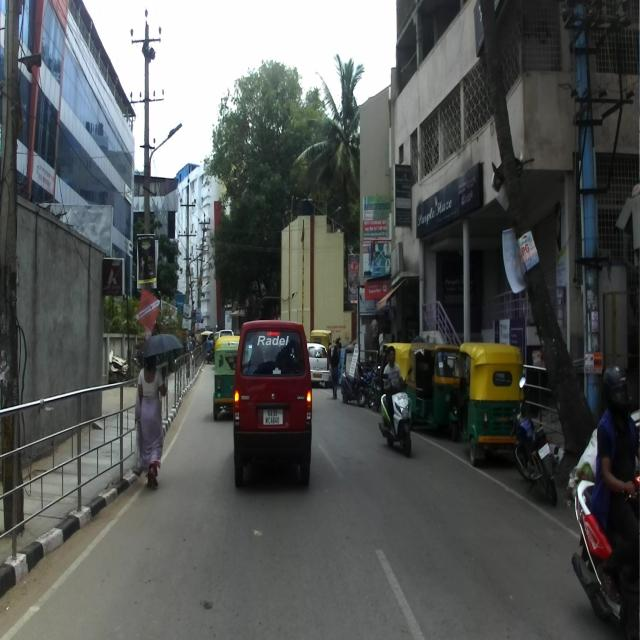autorickshaw: (459, 339, 532, 468), (406, 339, 461, 441)
car: (231, 318, 312, 487), (304, 343, 331, 386)
motorcycle: (509, 376, 556, 510), (367, 359, 380, 411)
scooter: (570, 469, 639, 638), (378, 365, 415, 455), (340, 361, 366, 408)
